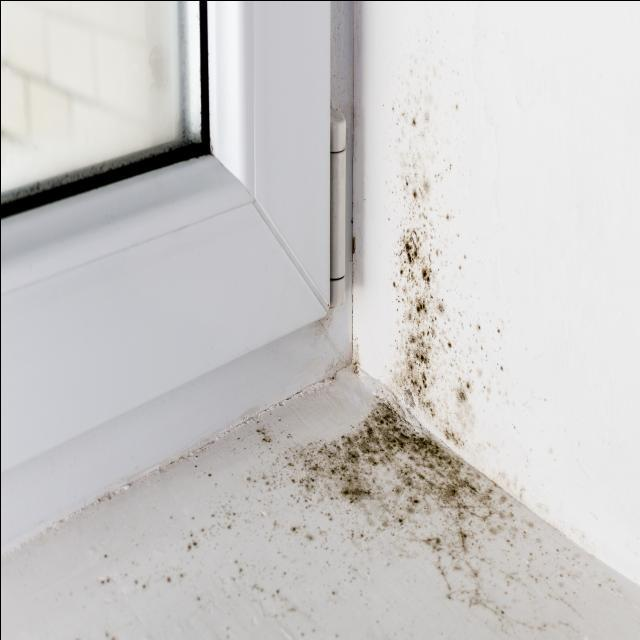leak: (295, 394, 555, 640), (383, 60, 485, 425), (173, 425, 293, 640)
